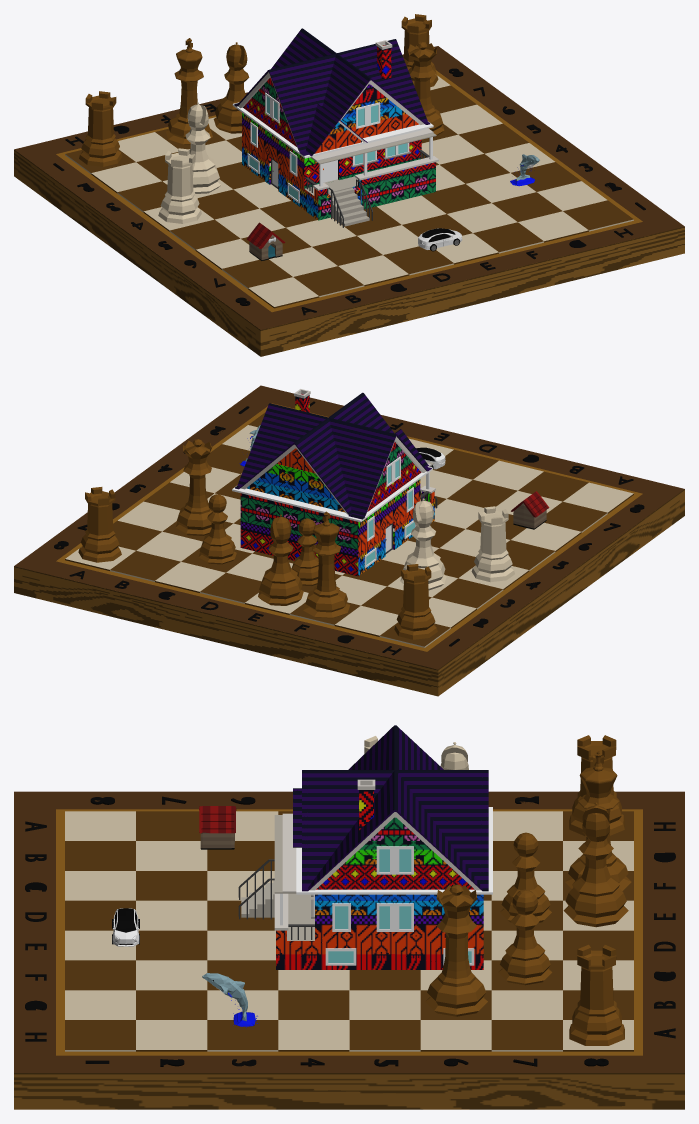
3 views of the same model, one above another, from view 1: azimuth 30°, elevation 25°; view 2: azimuth 150°, elevation 25°; view 3: azimuth 270°, elevation 25° (orthographic). The views are drawn at different scales.
Parts seen in each view (by area): view 1: Cube.002, Cube.966, OBJRANDOM_DOGHOUSE, VEHICLES_TESLA; view 2: Cube.002, Cube.966, OBJRANDOM_DOGHOUSE; view 3: Cube.002, Cube.966, OBJRANDOM_DOGHOUSE, ANIMAL_DELFIN, VEHICLES_TESLA.
Part boxes in pixels (x1,y1,x2,y2): Cube.002: (14, 14, 684, 356); Cube.966: (232, 28, 438, 227); OBJRANDOM_DOGHOUSE: (247, 222, 285, 260); VEHICLES_TESLA: (418, 228, 462, 251); Cube.002: (14, 385, 684, 696); Cube.966: (232, 389, 437, 576); OBJRANDOM_DOGHOUSE: (511, 491, 549, 529); Cube.002: (14, 735, 684, 1109); Cube.966: (238, 725, 492, 969); OBJRANDOM_DOGHOUSE: (199, 806, 236, 849); ANIMAL_DELFIN: (202, 973, 257, 1027); VEHICLES_TESLA: (112, 908, 139, 946).
Size of the model in its own units: 3981 by 1492 by 4012.
Materials: 40 (6 with a texture image).
